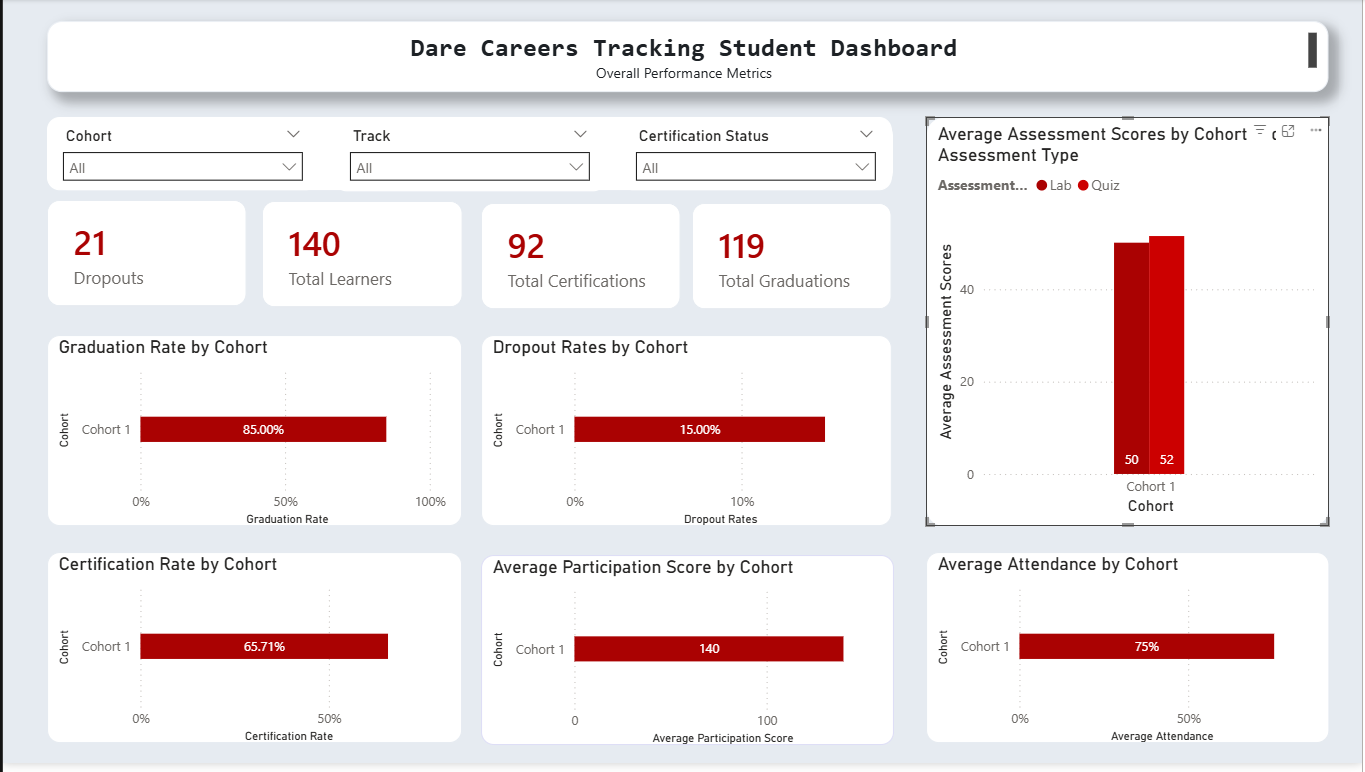

This screenshot's page, from the dashboard's own definition file:
{"tool":"powerbi","page":{"name":"Page 1: Overall Performance Metrics","canvas":[1280,720],"ordinal":0},"visuals":[{"type":"lineClusteredColumnComboChart","fields":{"Y":["Fact_Assessment.Average Assessment Scores"],"Category":["Dim_Student.Cohort"],"Series":["Assessment.Assessment Type"]},"box":[868.9,111.1,380,385.6],"z":5000},{"type":"barChart","fields":{"Y":["Participation.Average Engagement Score"],"Category":["Dim_Student.Cohort"]},"box":[450,521.1,388.9,180],"z":6000},{"type":"barChart","fields":{"Y":["Dim_Status.Dropout Rates"],"Category":["Dim_Student.Cohort"]},"box":[450,316.7,386.7,180],"z":7000},{"type":"barChart","fields":{"Y":["Fact_Attendance.Average Attendance"],"Category":["Dim_Student.Cohort"]},"box":[868.9,521.1,380,180],"z":7062},{"type":"barChart","fields":{"Y":["Dim_Status.Certification Rate"],"Category":["Dim_Student.Cohort"]},"box":[41.1,521.1,391.1,180],"z":7125},{"type":"barChart","fields":{"Y":["Dim_Status.Graduation Rate"],"Category":["Dim_Student.Cohort"]},"box":[41.1,316.7,391.1,180],"z":7250},{"type":"cardVisual","fields":{"Data":["Dim_Status.Total Gradurations"]},"box":[648.9,192.2,187.8,100],"z":7500},{"type":"cardVisual","fields":{"Data":["Dim_Status.Total Certification"]},"box":[450,192.2,187.8,100],"z":8000},{"type":"cardVisual","fields":{"Data":["Dim_Student.Total Learners"]},"box":[243.6,189.9,188.8,100],"z":9000},{"type":"cardVisual","fields":{"Data":["Dim_Status.Dropouts"]},"box":[41.3,189.7,187.5,100],"z":10000},{"type":"shape","box":[43.3,111.2,795,69],"z":10500},{"type":"slicer","title":"Certification","fields":{"Values":["Dim_Status.Certification Status"]},"box":[581.3,111.2,256,69],"z":11000},{"type":"slicer","title":"Track","fields":{"Values":["Dim_Student.Track"]},"box":[311.3,111.2,256,70],"z":12000},{"type":"slicer","title":"Cohort","fields":{"Values":["Dim_Student.Cohort"]},"box":[41.3,111.2,256,69],"z":13000},{"type":"textbox","box":[41.1,0,1207.8,67.8],"z":14000}]}

Visuals, with their boxes in screenshot pixels (x1, y1, x2, y2), scaled from the page's 1280x720 canvas onto the 1365x772 screenshot:
lineClusteredColumnComboChart - Fact_Assessment.Average Assessment Scores x Dim_Student.Cohort: locate(927, 119, 1332, 533)
barChart - Participation.Average Engagement Score x Dim_Student.Cohort: locate(480, 559, 895, 752)
barChart - Dim_Status.Dropout Rates x Dim_Student.Cohort: locate(480, 340, 892, 533)
barChart - Fact_Attendance.Average Attendance x Dim_Student.Cohort: locate(927, 559, 1332, 752)
barChart - Dim_Status.Certification Rate x Dim_Student.Cohort: locate(44, 559, 461, 752)
barChart - Dim_Status.Graduation Rate x Dim_Student.Cohort: locate(44, 340, 461, 533)
cardVisual - Dim_Status.Total Gradurations: locate(692, 206, 892, 313)
cardVisual - Dim_Status.Total Certification: locate(480, 206, 680, 313)
cardVisual - Dim_Student.Total Learners: locate(260, 204, 461, 311)
cardVisual - Dim_Status.Dropouts: locate(44, 203, 244, 311)
shape: locate(46, 119, 894, 193)
"Certification" slicer: locate(620, 119, 893, 193)
"Track" slicer: locate(332, 119, 605, 194)
"Cohort" slicer: locate(44, 119, 317, 193)
textbox: locate(44, 0, 1332, 73)
